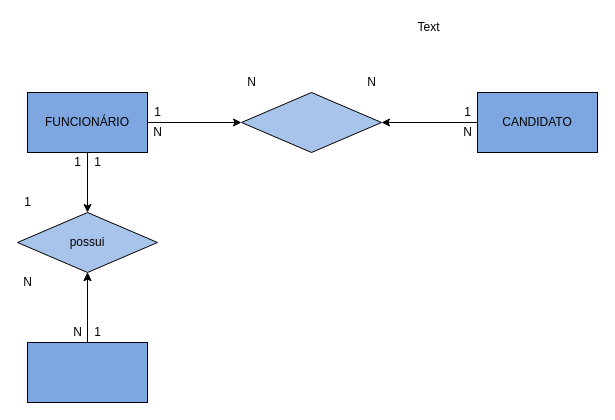
This 615x420 diagram has some shape labels left out. The shapes that lost their labels are listed below. From the top down, each one's centre as x and y in pixels, then its label:
At (x=311, y=122): "voto".
At (x=87, y=372): "TELEFONE".
